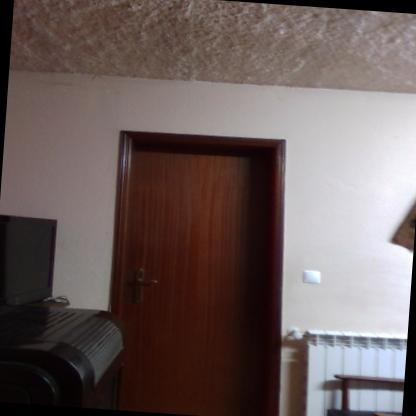closed: (88, 109, 303, 415)
